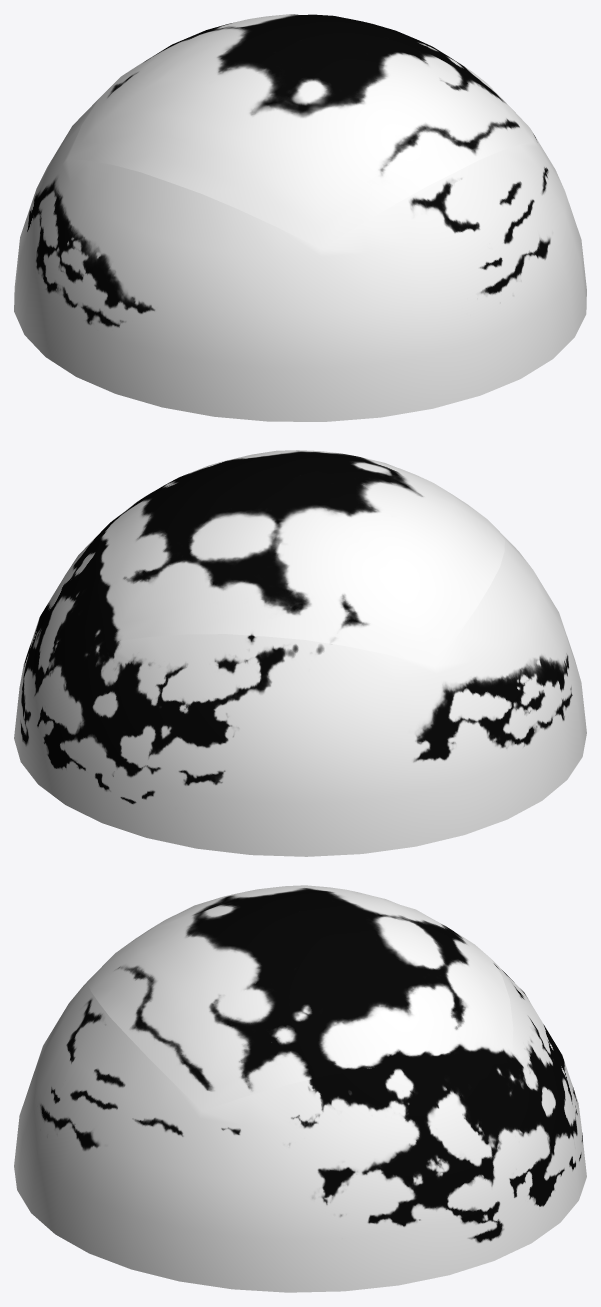
Rendered from skydome_forces.glb.
3 renders of one model, top to bottom at view 1: azimuth 30°, elevation 25°; view 2: azimuth 150°, elevation 25°; view 3: azimuth 270°, elevation 25°, orthographic.
Visible parts, largest first — view 1: w3a01_sky; view 2: w3a01_sky; view 3: w3a01_sky.
Part boxes in pixels (<box>): w3a01_sky: <box>14,14,586,421</box>; w3a01_sky: <box>14,450,586,856</box>; w3a01_sky: <box>14,885,586,1292</box>.
Bounding box in the file's own units: 10016 × 5013 × 10016.
3 materials, 3 textured.
